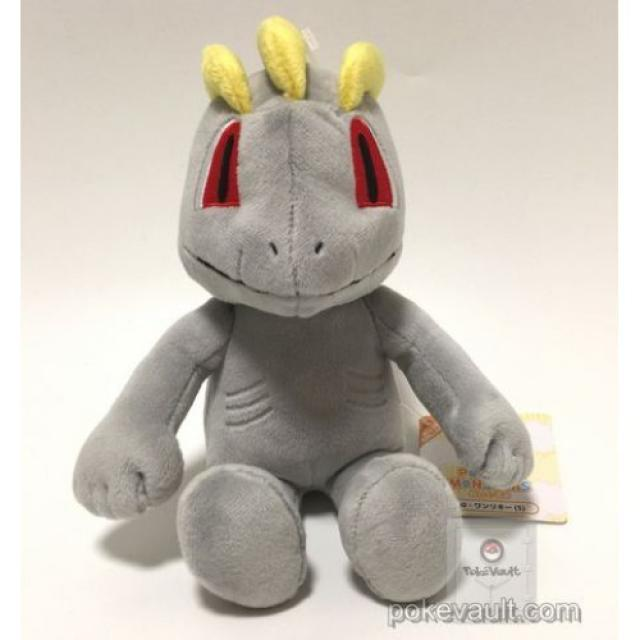Machop: (145, 20, 475, 616)
